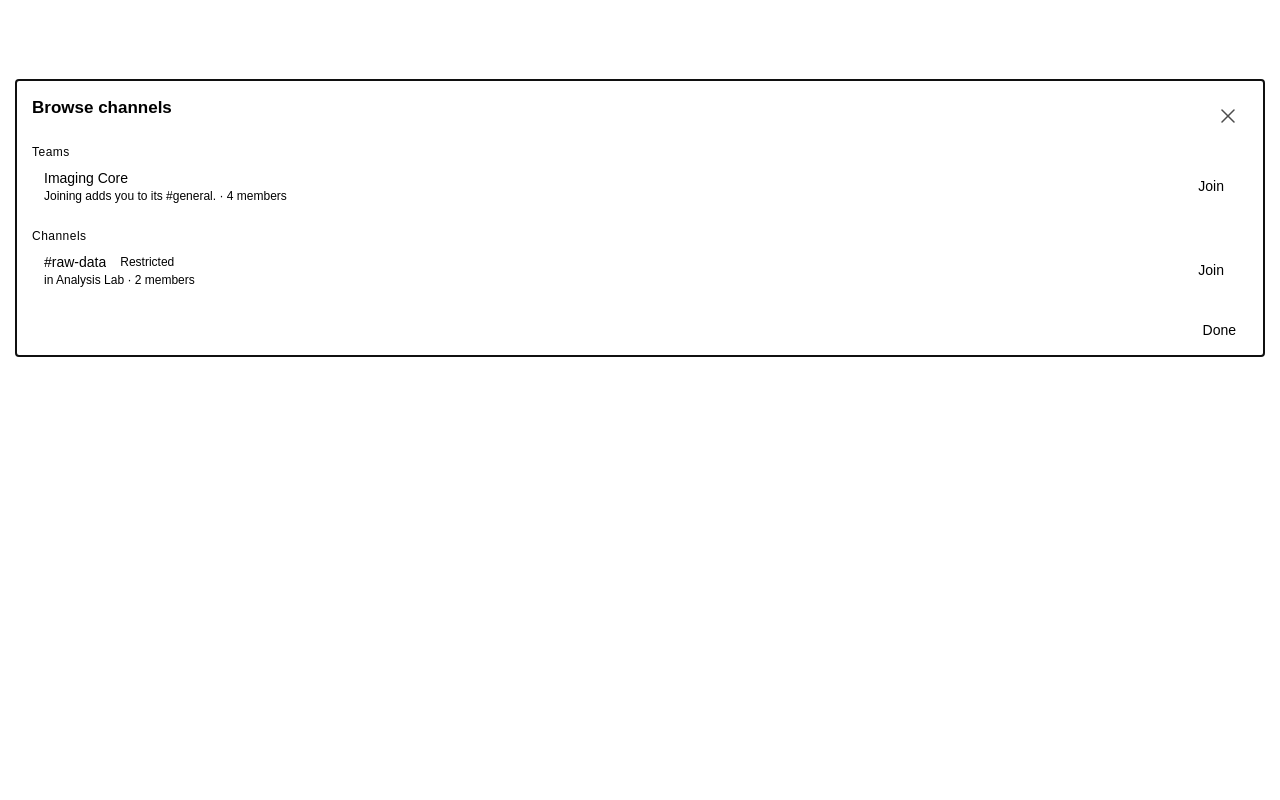
Test: BrowseChannelsDialog (OW-2) › shows a refused join in the dialog, and stays
Step 1. Click the button "Join" in the row of "#raw-data" → (1211, 270), box [1186,260,1236,280]
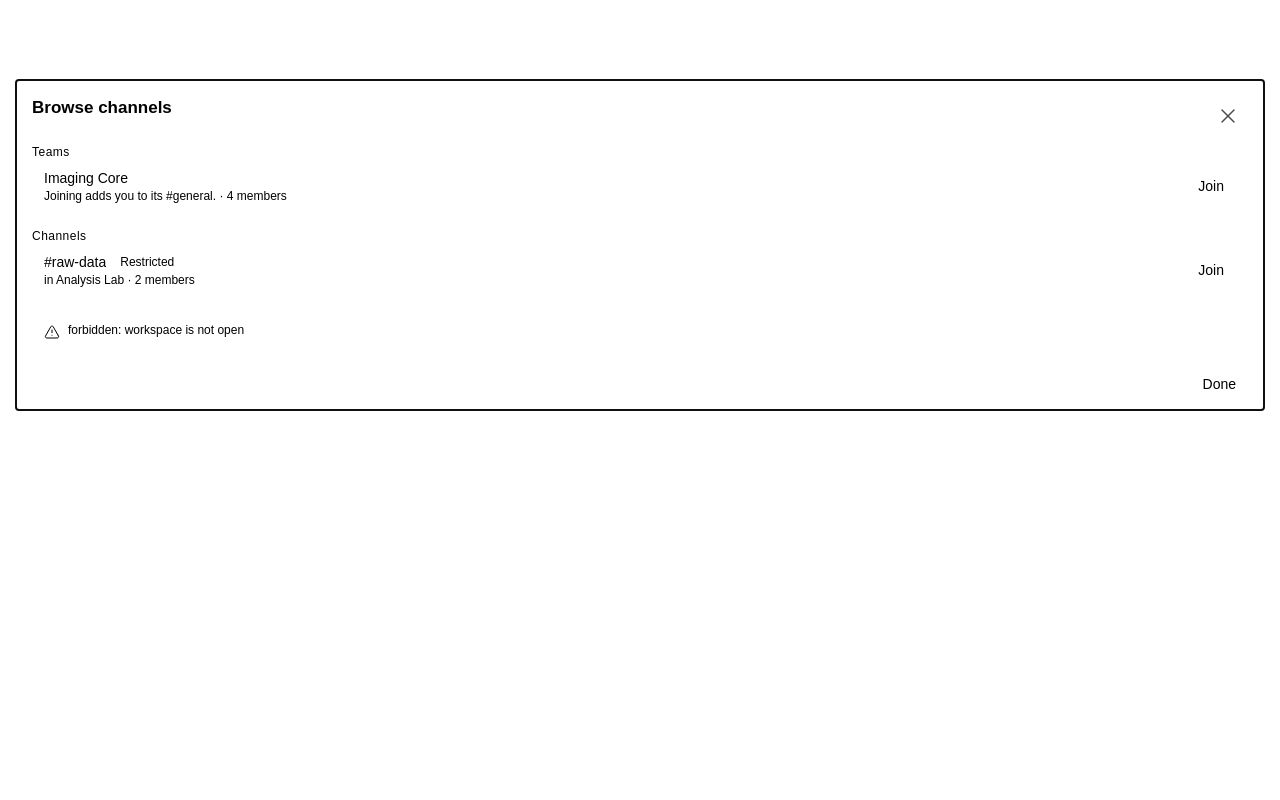
Expected: the text "forbidden: workspace is not open" is shown, [68,323,244,337]
